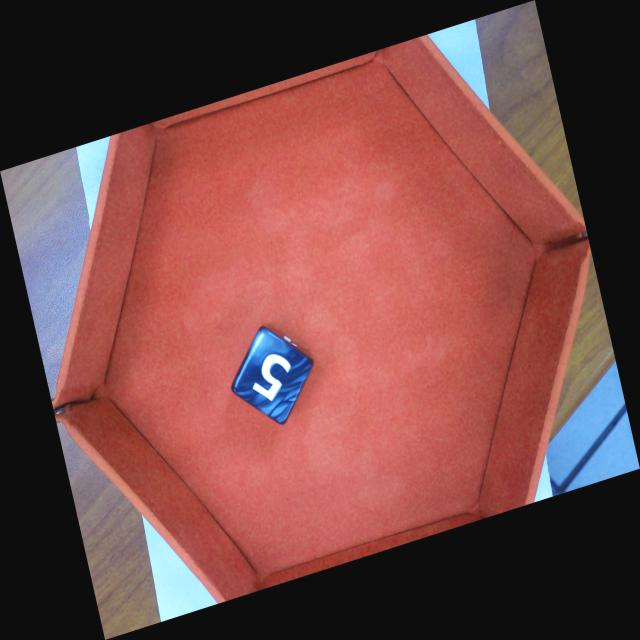dice: (231, 326, 314, 425)
